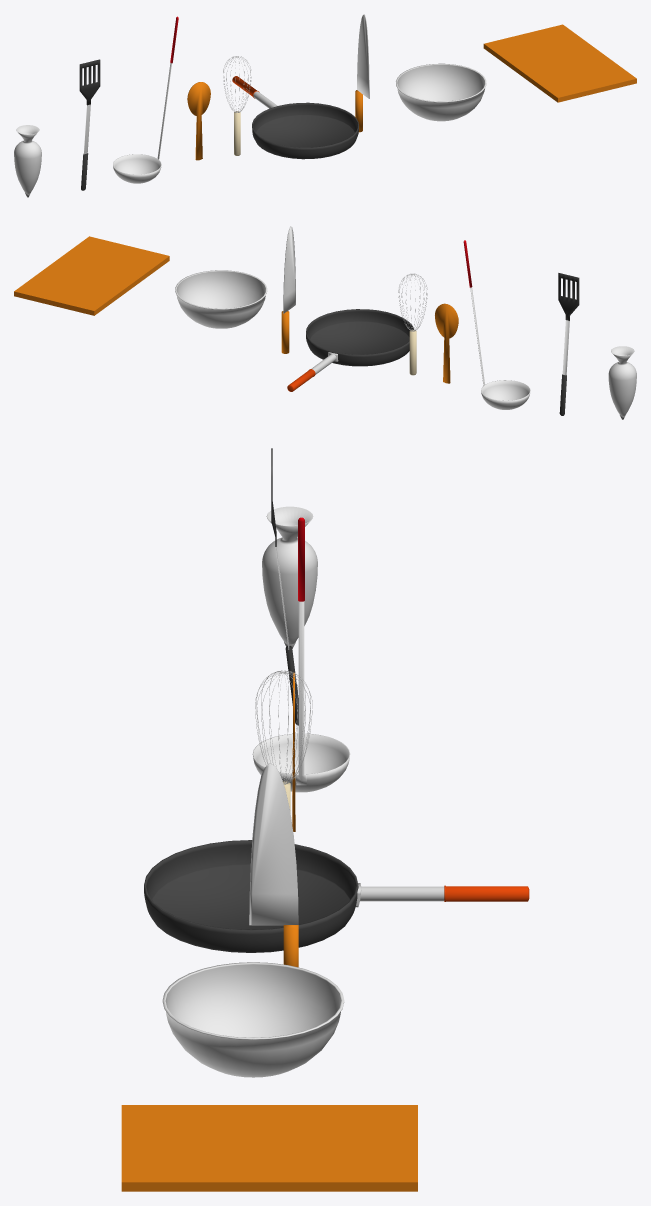
3 views of the same model, one above another, from view 1: azimuth 30°, elevation 25°; view 2: azimuth 150°, elevation 25°; view 3: azimuth 270°, elevation 25° (orthographic). The views are drawn at different scales.
Visible parts, largest first — view 1: まな板, フライパン, ボウル, お玉, 絞り袋, 包丁, フライ返し, しゃもじ, 泡だて器; view 2: まな板, フライパン, ボウル, お玉, 絞り袋, 包丁, フライ返し, しゃもじ, 泡だて器; view 3: まな板, フライパン, ボウル, 包丁, お玉, 絞り袋, 泡だて器.
Boxes of the visible parts, bbox=[...] form: まな板: bbox=[483, 24, 636, 102]; フライパン: bbox=[232, 76, 358, 159]; ボウル: bbox=[396, 63, 486, 121]; お玉: bbox=[113, 16, 178, 183]; 絞り袋: bbox=[14, 125, 41, 197]; 包丁: bbox=[355, 14, 369, 132]; フライ返し: bbox=[79, 59, 100, 190]; しゃもじ: bbox=[187, 82, 210, 160]; 泡だて器: bbox=[223, 56, 251, 155]; まな板: bbox=[14, 236, 169, 315]; フライパン: bbox=[287, 309, 413, 391]; ボウル: bbox=[175, 270, 267, 328]; お玉: bbox=[463, 240, 530, 409]; 絞り袋: bbox=[608, 346, 636, 419]; 包丁: bbox=[281, 226, 295, 353]; フライ返し: bbox=[558, 273, 579, 415]; しゃもじ: bbox=[435, 303, 458, 383]; 泡だて器: bbox=[398, 273, 427, 375]; まな板: bbox=[121, 1105, 417, 1191]; フライパン: bbox=[144, 840, 529, 952]; ボウル: bbox=[162, 962, 344, 1077]; 包丁: bbox=[249, 763, 298, 967]; お玉: bbox=[252, 517, 350, 792]; 絞り袋: bbox=[262, 506, 317, 648]; 泡だて器: bbox=[255, 670, 312, 812].
Bounding box in the file's own units: 218 × 55.89 × 66.37.
